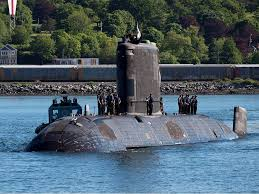Submarine: (22, 42, 247, 151)
